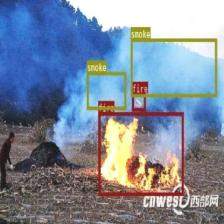fire: (98, 112, 184, 195), (132, 93, 146, 110)
smoke: (130, 38, 217, 96), (86, 71, 126, 109)
